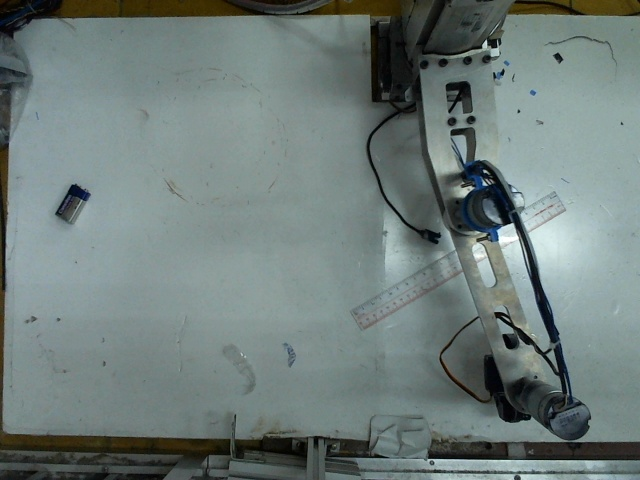battery: (51, 181, 85, 222)
